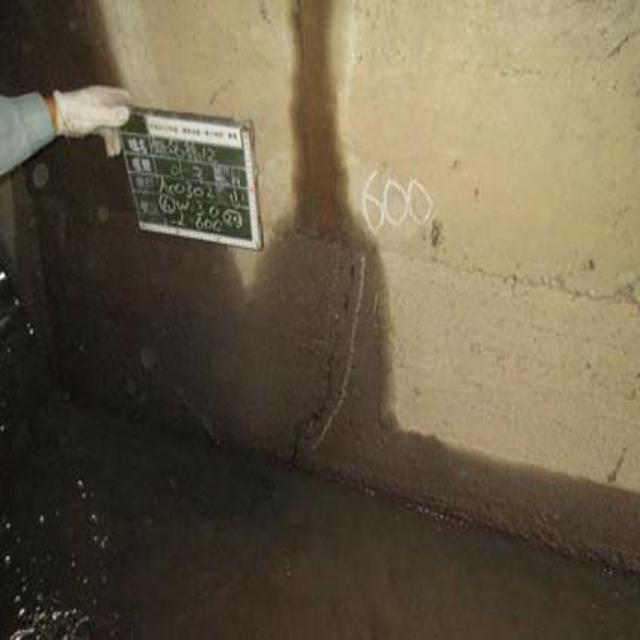crack: (284, 253, 369, 466)
